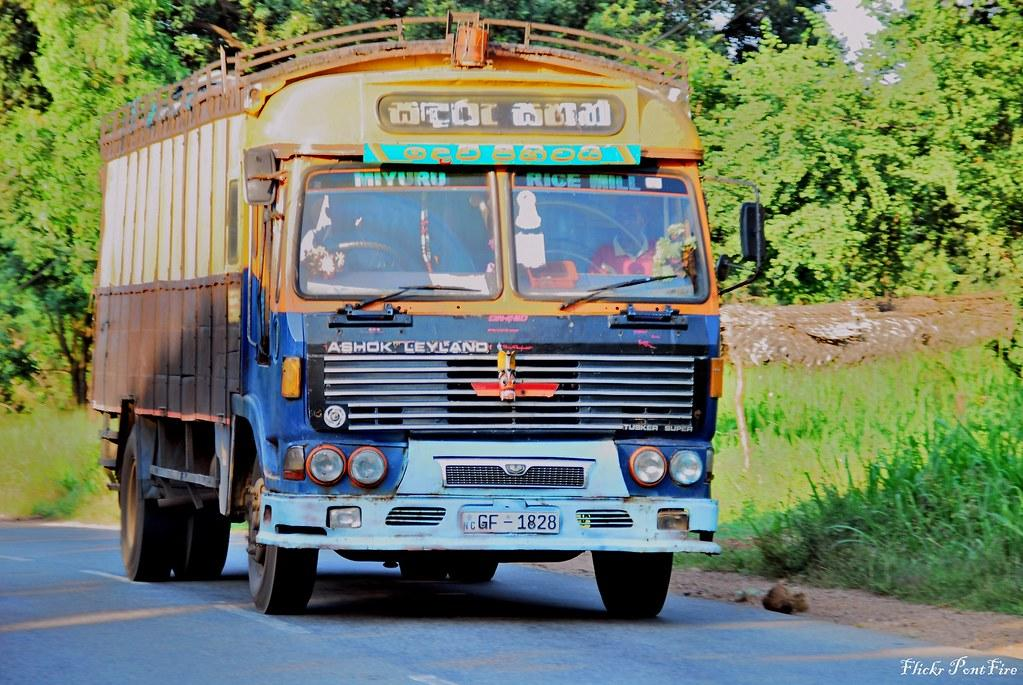truck: (88, 10, 763, 620)
